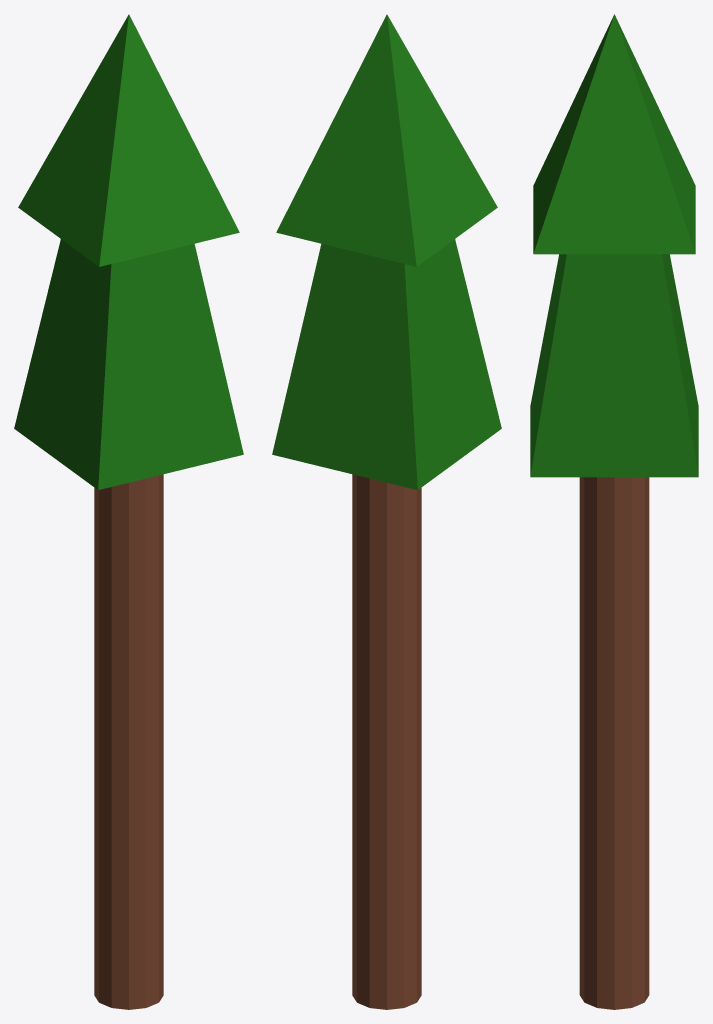
Rendered from Tree_16_summer_mat.fbx.
3 views of the same model, side by side, from view 1: azimuth 30°, elevation 25°; view 2: azimuth 150°, elevation 25°; view 3: azimuth 270°, elevation 25° (orthographic).
Parts seen in each view (by area): view 1: Tree_16_summer_mat; view 2: Tree_16_summer_mat; view 3: Tree_16_summer_mat.
Part boxes in pixels (left/top/right/bottom): Tree_16_summer_mat: left=14, top=14, right=243, bottom=1009; Tree_16_summer_mat: left=272, top=14, right=501, bottom=1009; Tree_16_summer_mat: left=530, top=14, right=698, bottom=1009.
Size of the model in its own units: 2.15 by 13.81 by 2.15.
